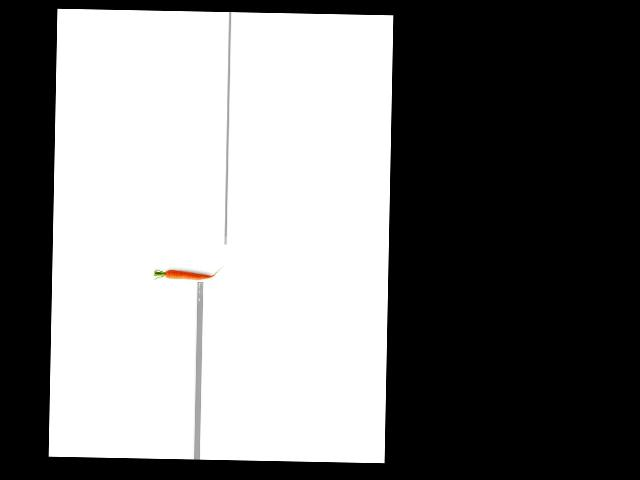carrot: (161, 268, 204, 282)
